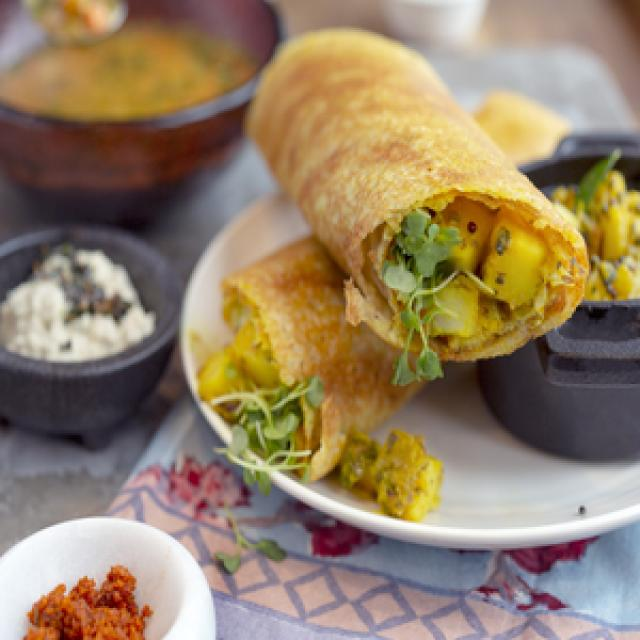dosa: (249, 26, 594, 372), (204, 231, 430, 507)
